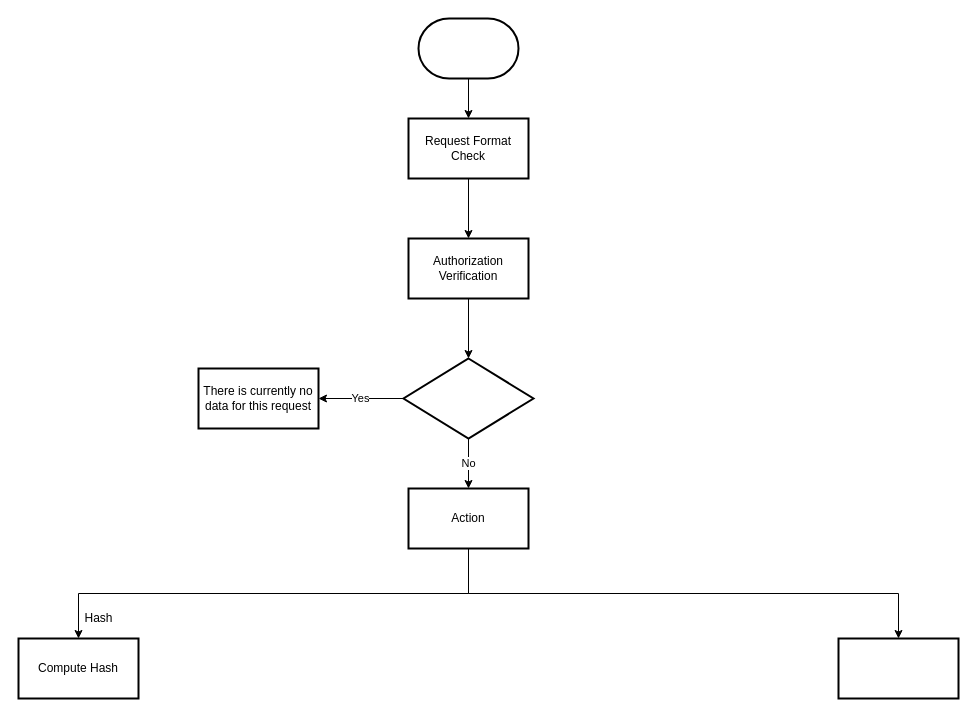
Image size: 976x716. Some labels were removed from this diagram. Here are the shapes that lost their labels. From the top down, the box of each, then its label:
(417, 17, 519, 79): Begin
(402, 357, 534, 439): Is Batch action
